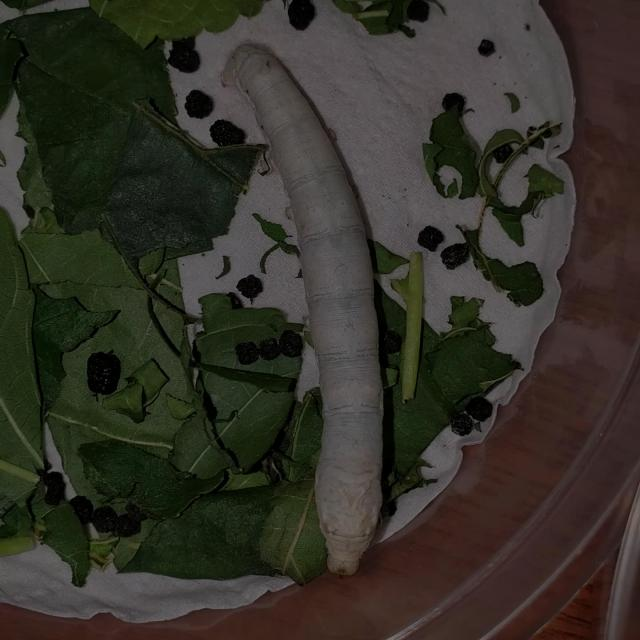Healthy: (215, 37, 398, 581)
